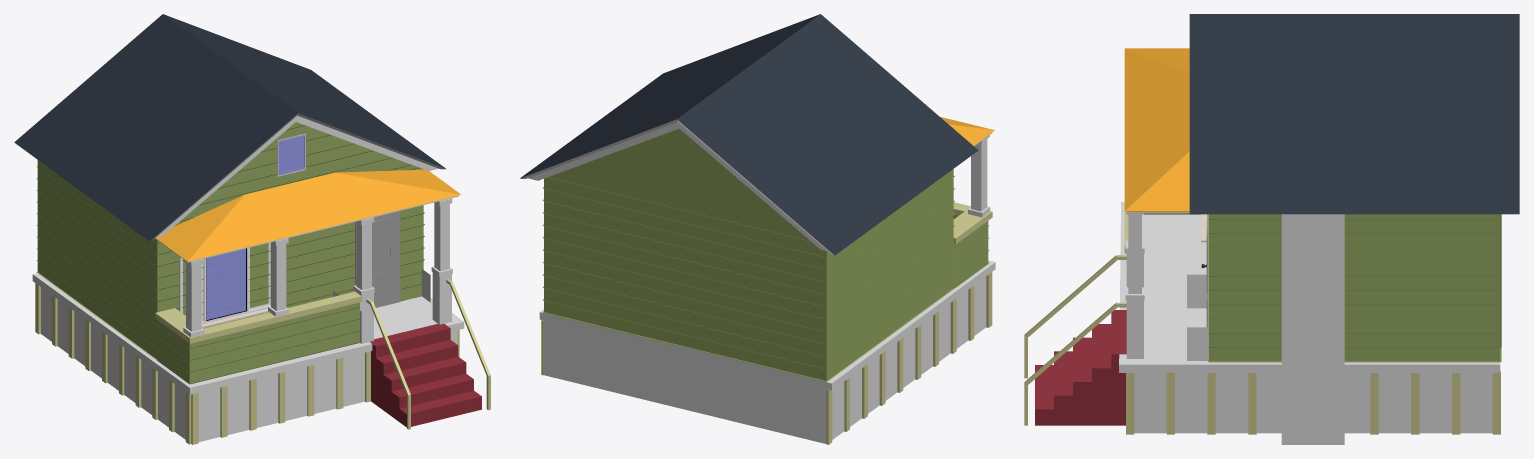
The model's file is House 1.fbx.
3 views of the same model, side by side, from view 1: azimuth 30°, elevation 25°; view 2: azimuth 150°, elevation 25°; view 3: azimuth 270°, elevation 25° (orthographic). The views are drawn at different scales.
Parts seen in each view (by area): view 1: Cube.009, Cube.007, Cube.011, Cube.032, Cube.033, Window.001, Cube.074, Cube.075, Door.001, Cube.012, Cube.028, Cube.034 (+4 smaller); view 2: Cube.009, Cube.007, Cube.074, Cube.032, Cube.030, Cube.011; view 3: Cube.009, Cube.007, CTRL_Hole.001, Cube.011, Cube.033, Cube.076, Cube.012, Cube.034, CTRL_Baseboard.001.
Boxes of the visible parts, bbox=[...] form: Cube.009: bbox=[14, 14, 445, 384]; Cube.007: bbox=[32, 273, 464, 441]; Cube.011: bbox=[155, 169, 461, 262]; Cube.032: bbox=[155, 291, 362, 384]; Cube.033: bbox=[370, 324, 481, 427]; Window.001: bbox=[179, 242, 270, 327]; Cube.074: bbox=[35, 283, 191, 444]; Cube.075: bbox=[191, 351, 370, 444]; Door.001: bbox=[372, 212, 396, 307]; Cube.012: bbox=[431, 198, 452, 324]; Cube.028: bbox=[353, 217, 374, 343]; Cube.034: bbox=[366, 279, 490, 429]; Cube.009: bbox=[520, 14, 989, 381]; Cube.007: bbox=[539, 260, 995, 443]; Cube.074: bbox=[826, 272, 992, 444]; Cube.032: bbox=[953, 202, 992, 287]; Cube.030: bbox=[968, 135, 990, 217]; Cube.011: bbox=[940, 117, 994, 146]; Cube.009: bbox=[1189, 14, 1519, 362]; Cube.007: bbox=[1119, 202, 1500, 433]; CTRL_Hole.001: bbox=[1281, 214, 1344, 444]; Cube.011: bbox=[1124, 48, 1189, 213]; Cube.033: bbox=[1035, 310, 1126, 425]; Cube.076: bbox=[1126, 370, 1500, 434]; Cube.012: bbox=[1125, 212, 1144, 358]; Cube.034: bbox=[1024, 255, 1126, 425]; CTRL_Baseboard.001: bbox=[1187, 274, 1208, 360].
Bounding box in the file's own units: 335 × 305 × 397.
